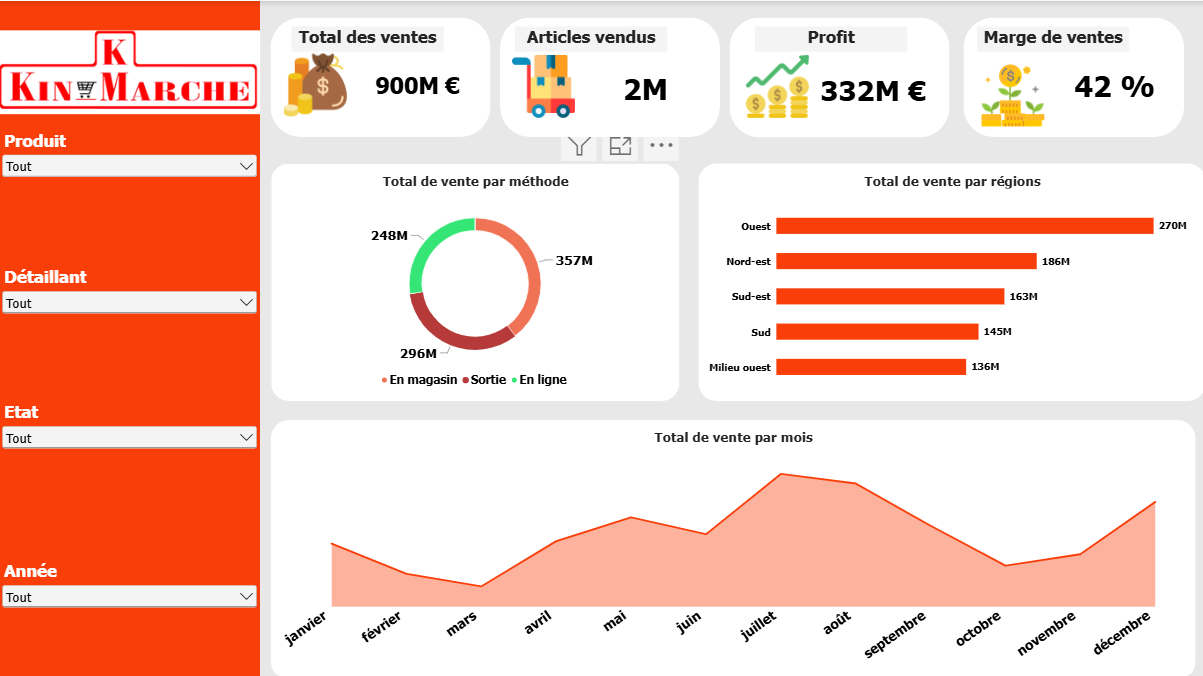

What the dashboard file says about the page in this screenshot:
{"tool":"powerbi","page":{"name":"Page 1","canvas":[1920,1080],"ordinal":0},"visuals":[{"type":"shape","box":[0,0,415.1,1080.8],"z":0},{"type":"image","box":[0,0,415.1,226.7],"z":1000},{"type":"slicer","fields":{"Values":["DonneesKinMarche.Détaillant"]},"box":[0,422.3,415.1,119.3],"z":2000},{"type":"slicer","fields":{"Values":["DonneesKinMarche.Produit"]},"box":[0,205.2,415.1,102.6],"z":3000},{"type":"slicer","fields":{"Values":["DonneesKinMarche.Etat"]},"box":[0,637,415.1,119.3],"z":4000},{"type":"slicer","fields":{"Values":["DonneesKinMarche.Date Facture.Variation.Hiérarchie de dates.Année"]},"box":[0,889.9,415.1,116.9],"z":5000},{"type":"donutChart","title":"Total de vente par méthode","fields":{"Category":["DonneesKinMarche.Méthode de vente"],"Y":["Sum(DonneesKinMarche.Total vente)"]},"box":[431.9,257.7,651.4,379.4],"z":6000},{"type":"clusteredBarChart","title":"Total de vente par régions ","fields":{"Category":["DonneesKinMarche.Region"],"Y":["Sum(DonneesKinMarche.Total vente)"]},"box":[1111.8,257.7,808.8,379.4],"z":7000},{"type":"areaChart","title":"Total de vente par mois","fields":{"Category":["DonneesKinMarche.Date Facture.Variation.Hiérarchie de dates.Mois"],"Y":["Sum(DonneesKinMarche.Total vente)"]},"box":[431.9,665.7,1472.1,415.1],"z":8000},{"type":"group","id":"g1","title":"Groupe 1","box":[431.9,26.2,350,190],"z":9000},{"type":"shape","box":[431.9,26.2,350,190],"z":9000,"group":"g1"},{"type":"shape","box":[796.9,26.2,350,190],"z":9000,"group":"g2"},{"type":"shape","box":[1161.9,26.2,350,191],"z":9000,"group":"g3"},{"type":"shape","box":[1534.1,26.2,351,190],"z":9000,"group":"g4"},{"type":"group","id":"g2","title":"Groupe 1","box":[796.9,26.2,350,190],"z":10000},{"type":"cardVisual","fields":{"Data":["Sum(DonneesKinMarche.Total vente)"]},"box":[562.9,83.3,205,100],"z":10000,"group":"g1"},{"type":"cardVisual","fields":{"Data":["DonneesKinMarche.% Marge d'exploitation"]},"box":[1672.1,84.1,205,100],"z":10000,"group":"g4"},{"type":"cardVisual","fields":{"Data":["Sum(DonneesKinMarche.Unité vendu)"]},"box":[926,88.9,205,100],"z":10000,"group":"g2"},{"type":"cardVisual","fields":{"Data":["Sum(DonneesKinMarche.Bénéfice d'exploitation)"]},"box":[1288.5,91.3,205,100],"z":10000,"group":"g3"},{"type":"group","id":"g3","title":"Groupe 1","box":[1161.9,26.2,350,191],"z":11000},{"type":"textbox","box":[465.6,39.3,242,40],"z":11000,"group":"g1"},{"type":"textbox","box":[820.6,39.3,242,40],"z":11000,"group":"g2"},{"type":"textbox","box":[1202.2,39.3,242,40],"z":11000,"group":"g3"},{"type":"textbox","box":[1556.2,39.3,242,40],"z":11000,"group":"g4"},{"type":"group","id":"g4","title":"Groupe 1","box":[1534.1,26.2,351,190],"z":12000},{"type":"image","box":[453,84.3,100,100],"z":12000,"group":"g1"},{"type":"image","box":[816.2,85.3,100,100],"z":12000,"group":"g2"},{"type":"image","box":[1188.3,85.3,100,100],"z":12000,"group":"g3"},{"type":"image","box":[1562.4,99.6,100,100],"z":12000,"group":"g4"}]}

Visuals, with their boxes in screenshot pixels (x1, y1, x2, y2), scaled from the page's 1920x1080 canvas onto the 1203x676 screenshot:
shape: x1=0, y1=0, x2=260, y2=675
image: x1=0, y1=0, x2=260, y2=142
slicer - DonneesKinMarche.Détaillant: x1=0, y1=264, x2=260, y2=339
slicer - DonneesKinMarche.Produit: x1=0, y1=128, x2=260, y2=193
slicer - DonneesKinMarche.Etat: x1=0, y1=399, x2=260, y2=473
slicer - DonneesKinMarche.Date Facture.Variation.Hiérarchie de dates.Année: x1=0, y1=557, x2=260, y2=630
"Total de vente par méthode" donutChart: x1=271, y1=161, x2=679, y2=399
"Total de vente par régions " clusteredBarChart: x1=697, y1=161, x2=1202, y2=399
"Total de vente par mois" areaChart: x1=271, y1=417, x2=1193, y2=675
"Groupe 1" group: x1=271, y1=16, x2=490, y2=135
shape: x1=271, y1=16, x2=490, y2=135
shape: x1=499, y1=16, x2=719, y2=135
shape: x1=728, y1=16, x2=947, y2=136
shape: x1=961, y1=16, x2=1181, y2=135
"Groupe 1" group: x1=499, y1=16, x2=719, y2=135
cardVisual - Sum(DonneesKinMarche.Total vente): x1=353, y1=52, x2=481, y2=115
cardVisual - DonneesKinMarche.% Marge d'exploitation: x1=1048, y1=53, x2=1176, y2=115
cardVisual - Sum(DonneesKinMarche.Unité vendu): x1=580, y1=56, x2=709, y2=118
cardVisual - Sum(DonneesKinMarche.Bénéfice d'exploitation): x1=807, y1=57, x2=936, y2=120
"Groupe 1" group: x1=728, y1=16, x2=947, y2=136
textbox: x1=292, y1=25, x2=443, y2=50
textbox: x1=514, y1=25, x2=666, y2=50
textbox: x1=753, y1=25, x2=905, y2=50
textbox: x1=975, y1=25, x2=1127, y2=50
"Groupe 1" group: x1=961, y1=16, x2=1181, y2=135
image: x1=284, y1=53, x2=346, y2=115
image: x1=511, y1=53, x2=574, y2=116
image: x1=745, y1=53, x2=807, y2=116
image: x1=979, y1=62, x2=1042, y2=125
